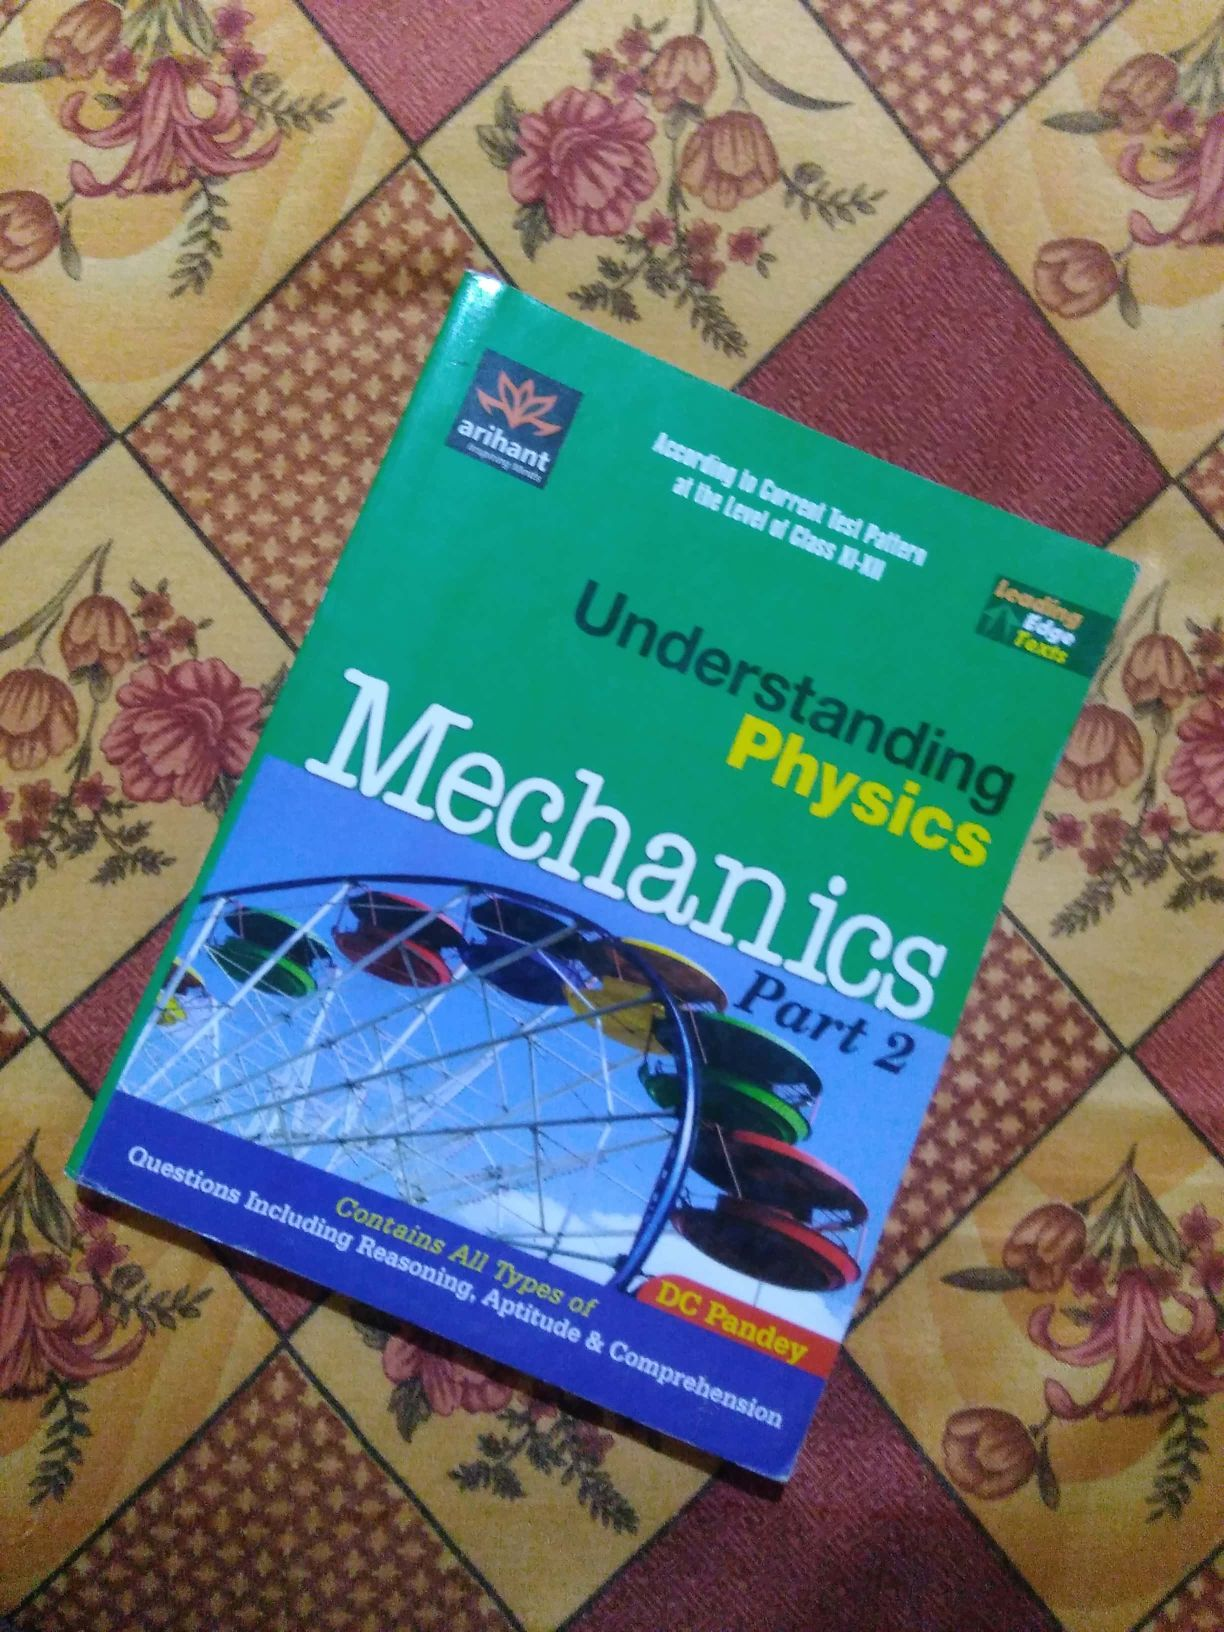mechanics: (175, 276, 1107, 1507)
